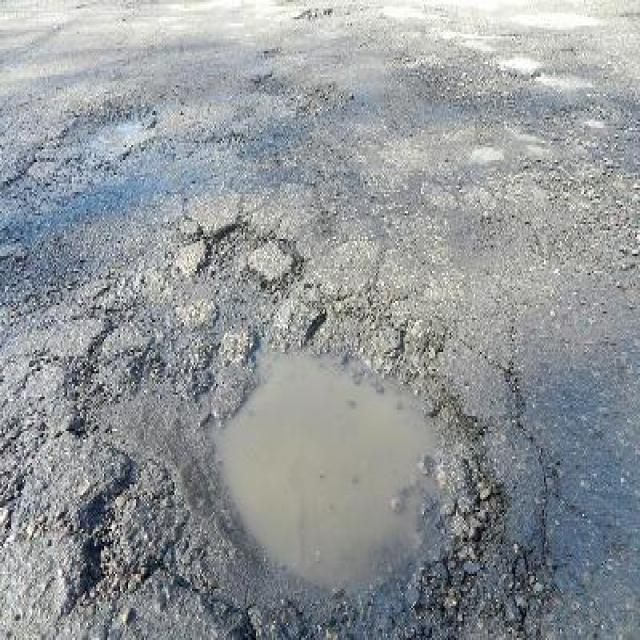pothole: (74, 282, 512, 636), (193, 215, 264, 278)
